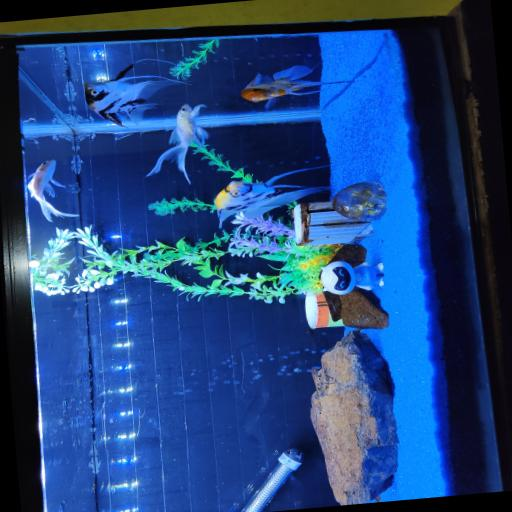Fish: (215, 165, 329, 227), (85, 65, 181, 125), (147, 104, 208, 183), (241, 65, 353, 108), (27, 160, 79, 222)
